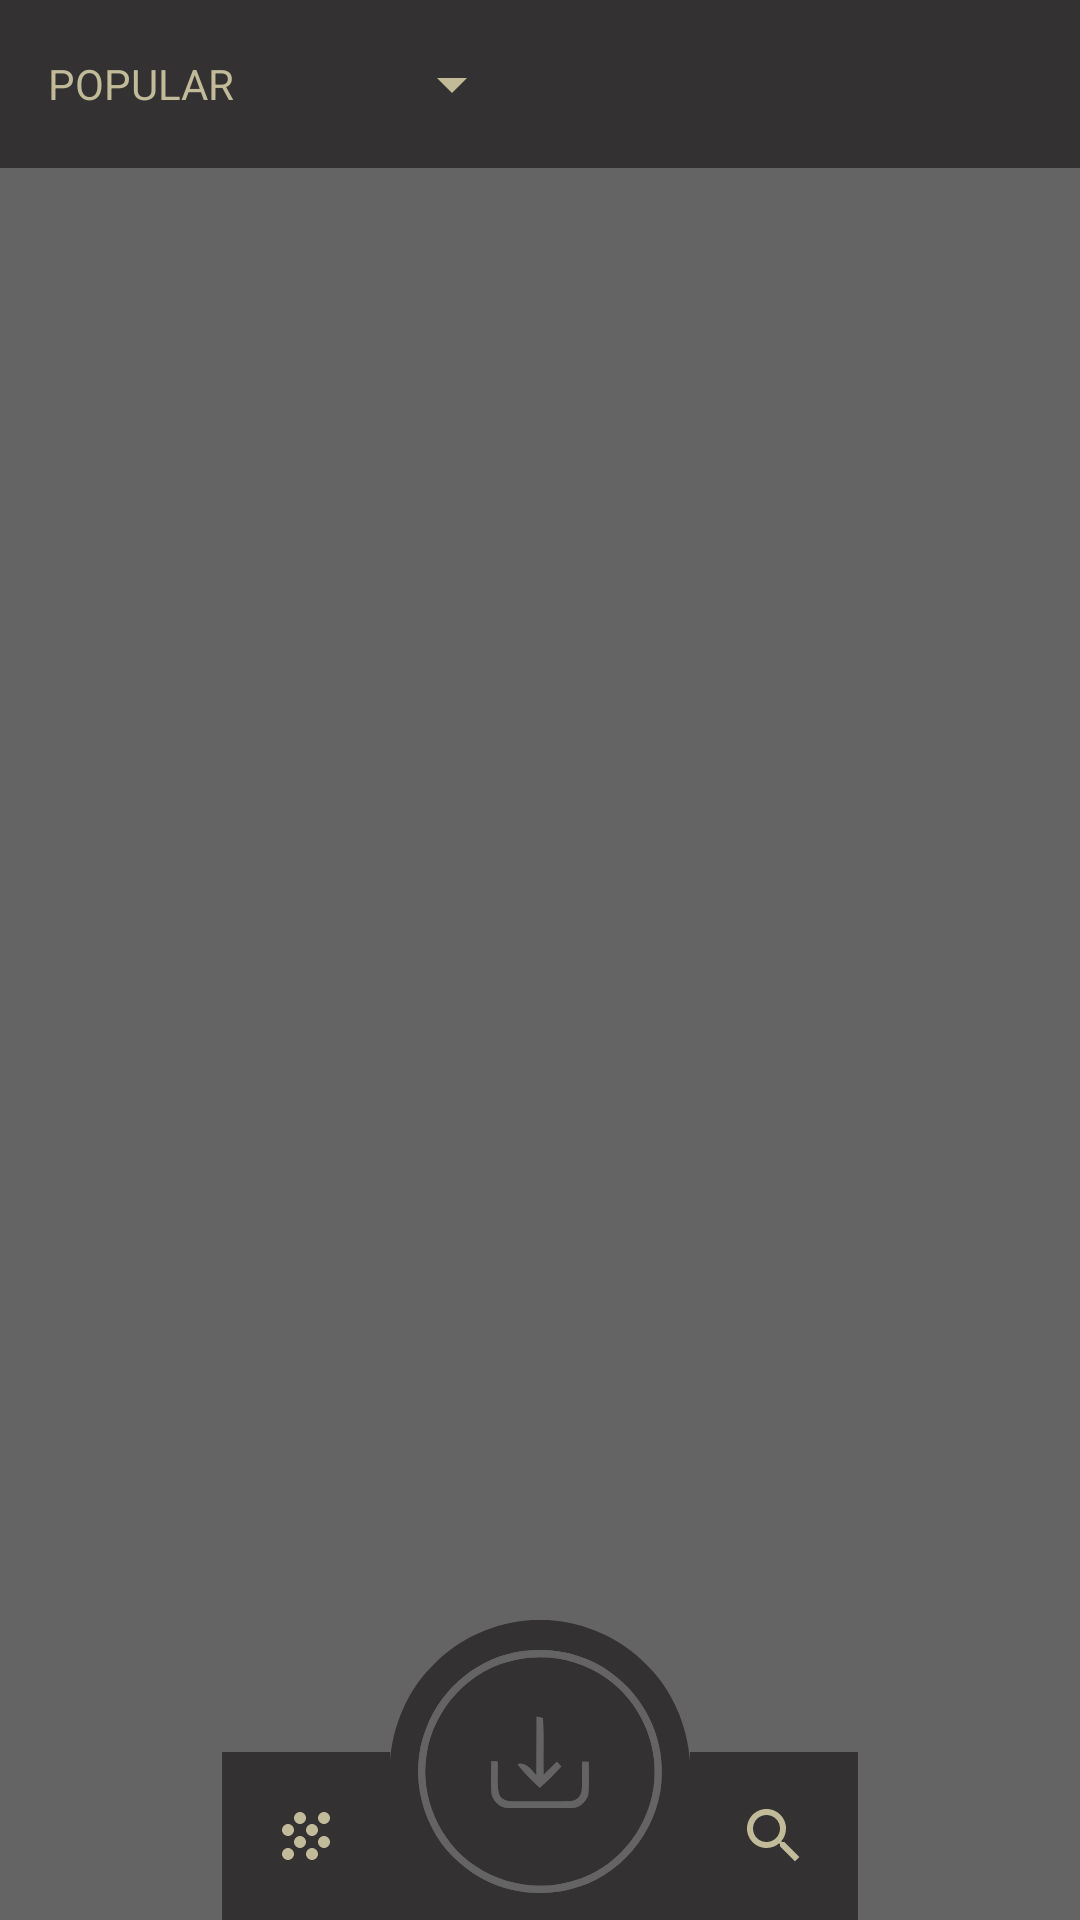

Screen size 1080w x 1920h. Icon name, then its box in pixels as {"left": x1, "top": y1, "right": x2, "bottom": y2}:
grain: {"left": 282, "top": 1812, "right": 330, "bottom": 1860}
search: {"left": 747, "top": 1809, "right": 799, "bottom": 1861}
